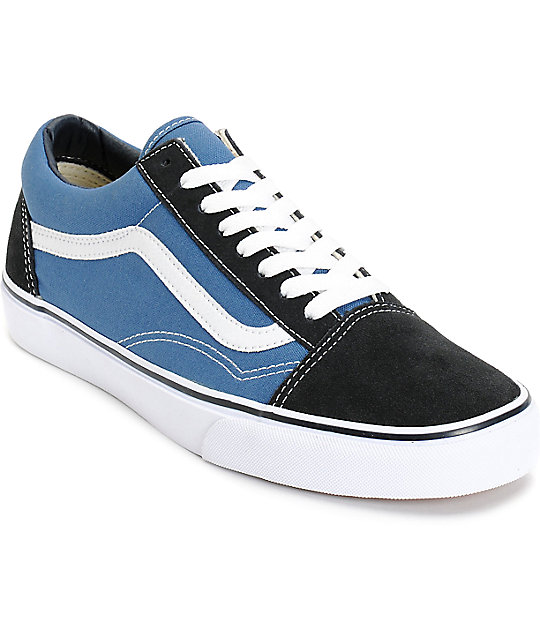Vans Old Skool Blue: (3, 77, 538, 506)
